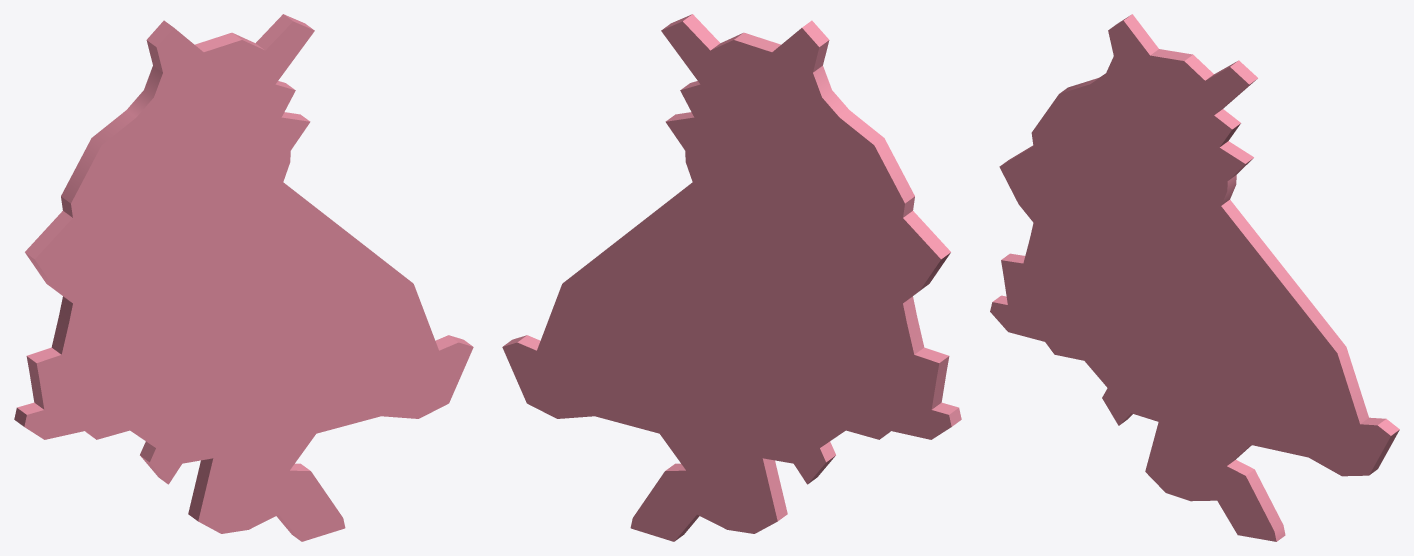
Rendered from Mapimí.fbx.
The picture shows the model from 3 angles, left to right: view 1: azimuth 30°, elevation 25°; view 2: azimuth 150°, elevation 25°; view 3: azimuth 330°, elevation 25°; orthographic projection. The views are drawn at different scales.
Visible parts, largest first — view 1: mapimi; view 2: mapimi; view 3: mapimi.
Part boxes in pixels (<box>): mapimi: <box>14,14,473,541</box>; mapimi: <box>502,14,961,541</box>; mapimi: <box>990,14,1399,541</box>.
Bounding box in the file's own units: 206 × 239 × 8.
